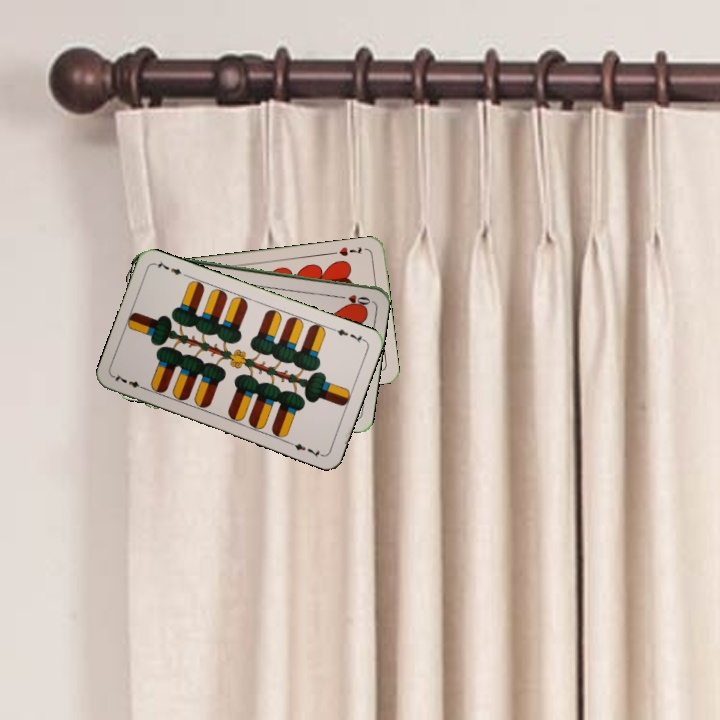E7: (110, 370, 149, 393), (328, 324, 368, 346)
H7: (335, 243, 364, 259)
HO: (333, 290, 373, 307)
